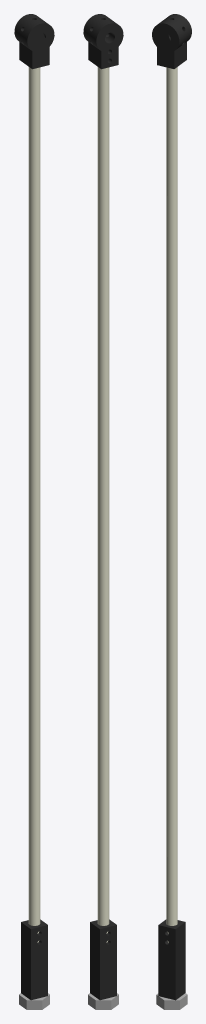
File: inverted_pendulum_pendulum.fbx
3 renders of one model, left to right at view 1: azimuth 30°, elevation 25°; view 2: azimuth 210°, elevation 25°; view 3: azimuth 330°, elevation 25°, orthographic.
Parts seen in each view (by area): view 1: Pendulum; view 2: Pendulum; view 3: Pendulum.
Boxes of the visible parts, x1,y1,x2,y2 form: Pendulum: (14,14,54,1009); Pendulum: (83,14,123,1009); Pendulum: (152,14,191,1009).
Size of the model in its own units: 2.21 by 76.26 by 2.19.
